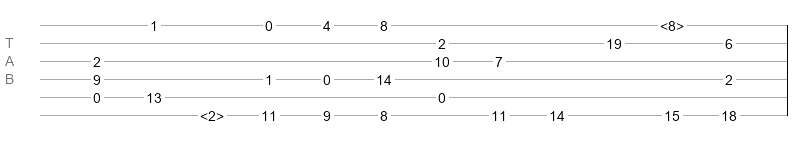0: (93, 90, 101, 100), (265, 18, 273, 28), (323, 72, 331, 82), (438, 90, 446, 100)
1: (150, 18, 158, 28), (265, 72, 273, 82)
10: (434, 54, 450, 64)
11: (261, 108, 277, 118), (491, 108, 507, 118)
13: (146, 90, 162, 100)
14: (376, 72, 392, 82), (549, 108, 565, 118)
15: (664, 108, 680, 118)
18: (721, 108, 737, 118)
19: (606, 36, 622, 46)
2: (93, 54, 101, 64), (438, 36, 446, 46), (725, 72, 733, 82)
4: (323, 18, 331, 28)
6: (725, 36, 733, 46)
7: (495, 54, 503, 64)
8: (380, 108, 388, 118), (380, 18, 388, 28)
9: (93, 72, 101, 82), (323, 108, 331, 118)
harmonic: (200, 108, 224, 118), (660, 18, 684, 28)
